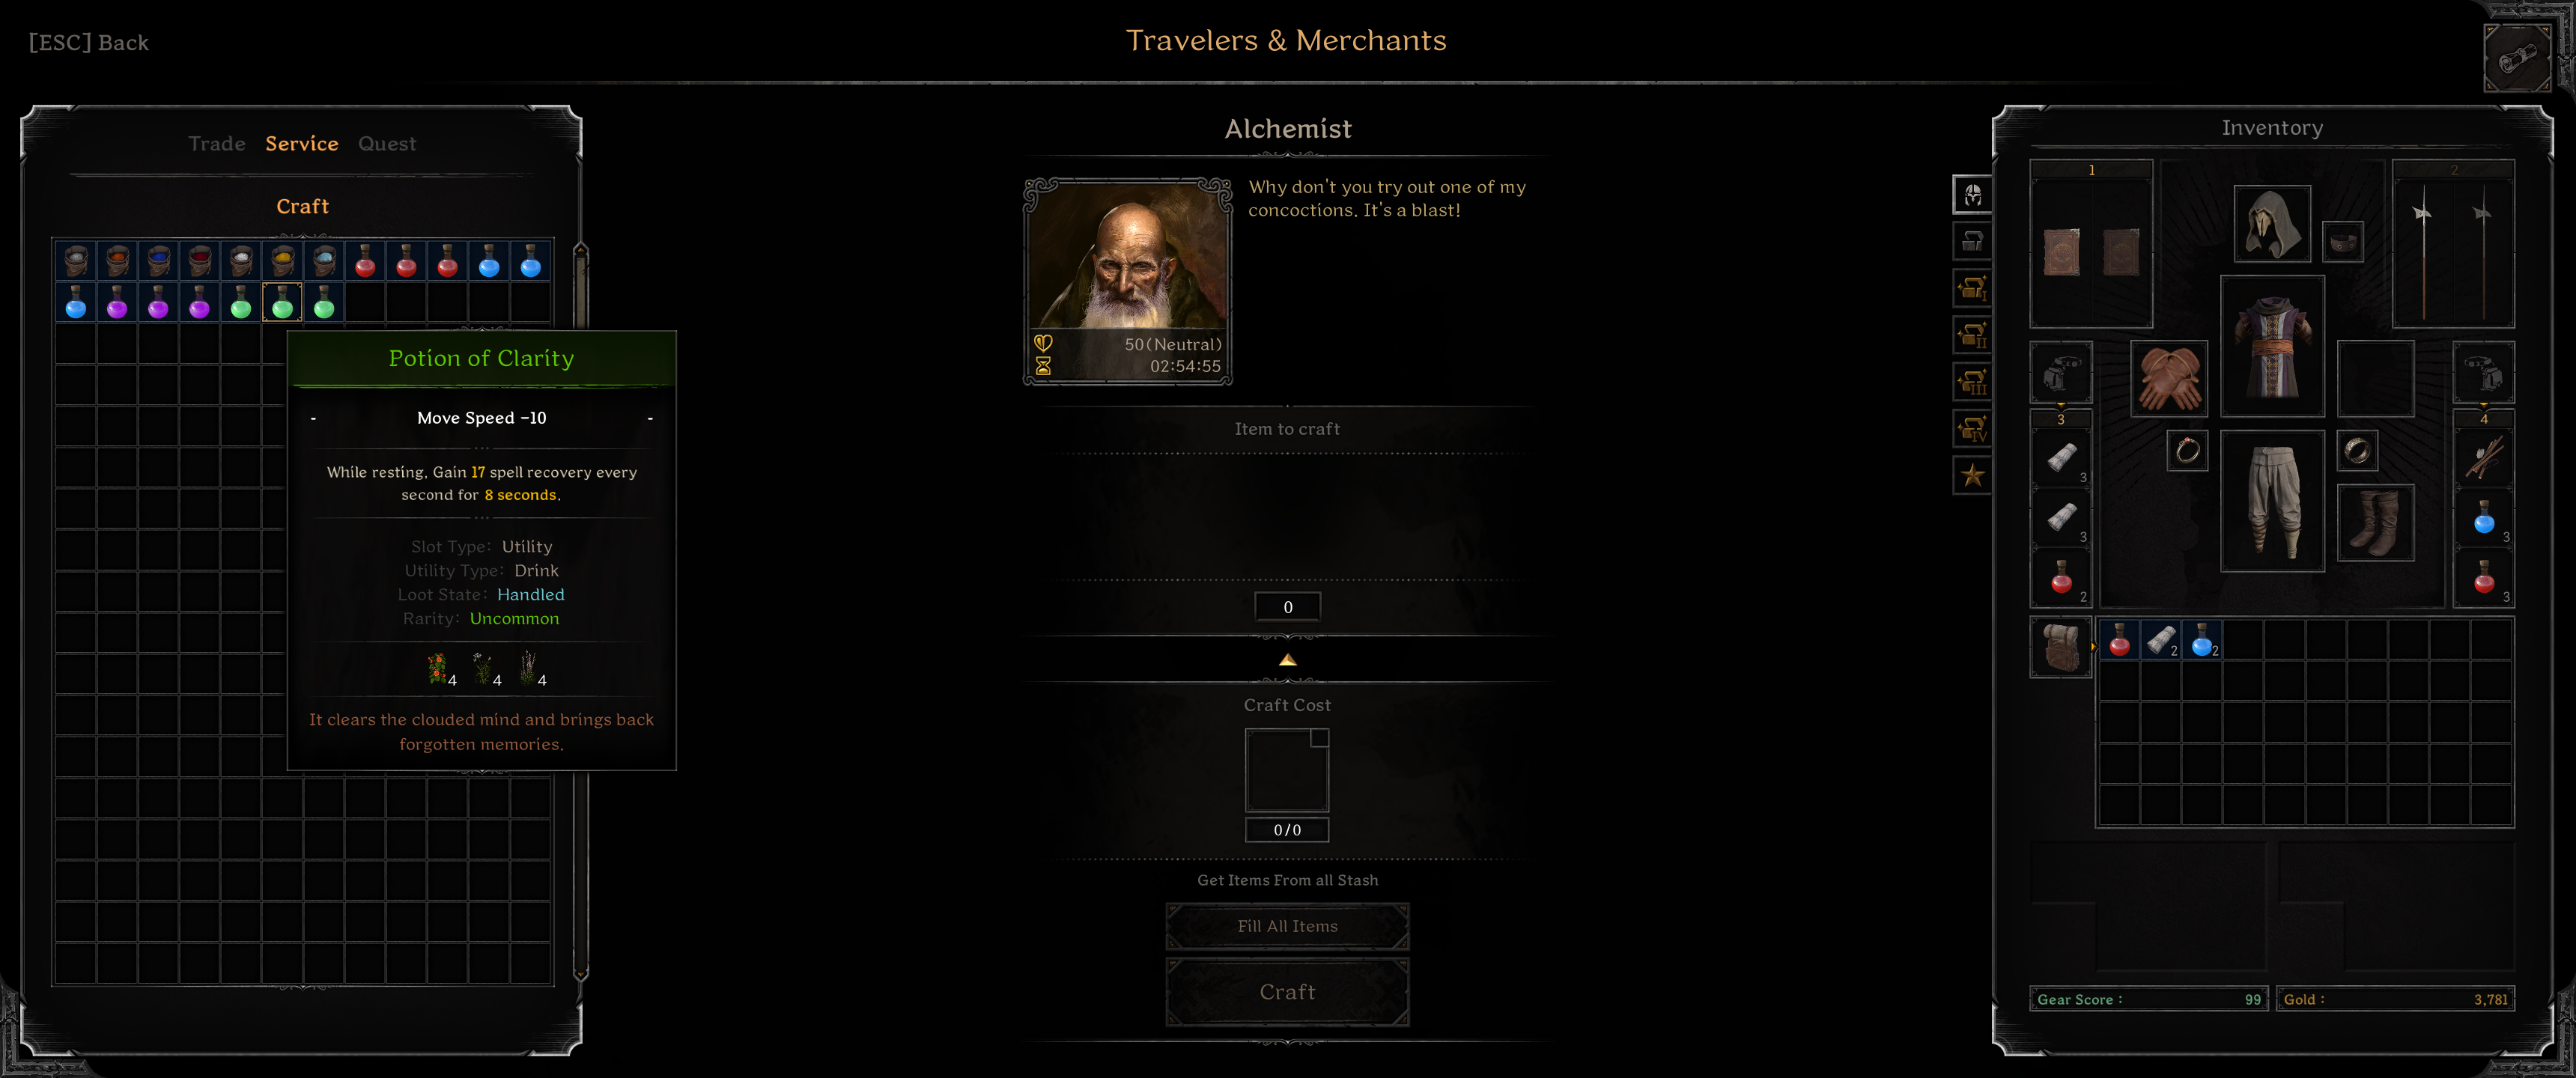Tooltip: (284, 329, 678, 774)
